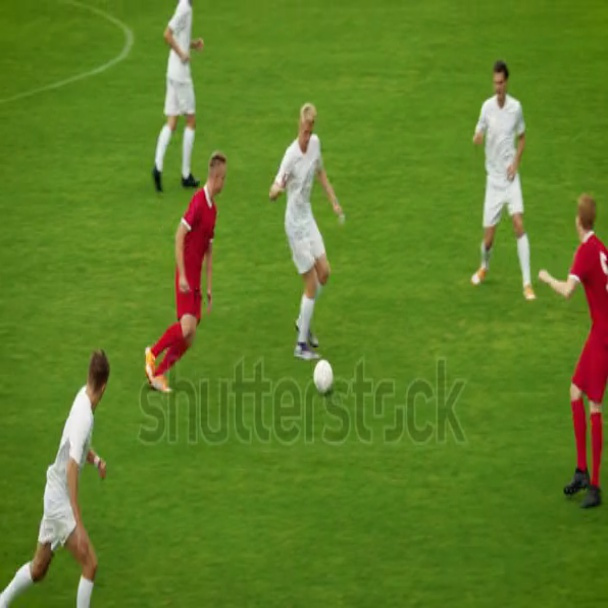ball: (309, 354, 338, 400)
